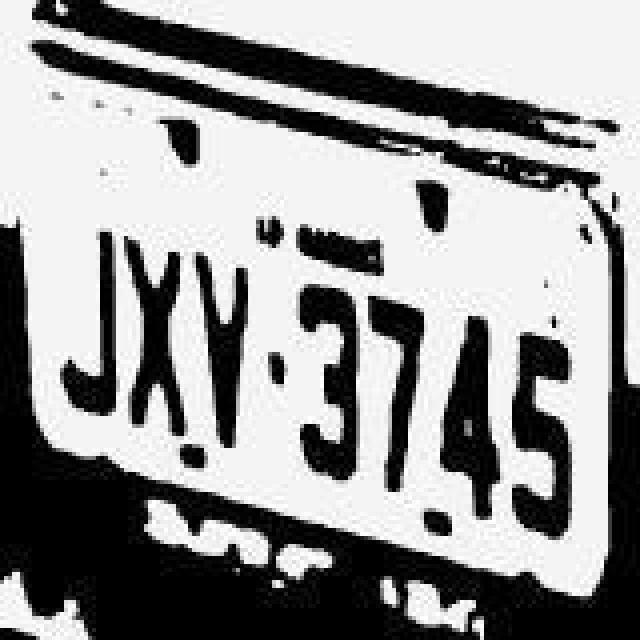3: (290, 278, 366, 506)
4: (440, 290, 504, 526)
5: (506, 332, 582, 548)
7: (368, 282, 432, 502)
J: (56, 190, 128, 418)
V: (188, 250, 260, 454)
X: (128, 214, 192, 442)
